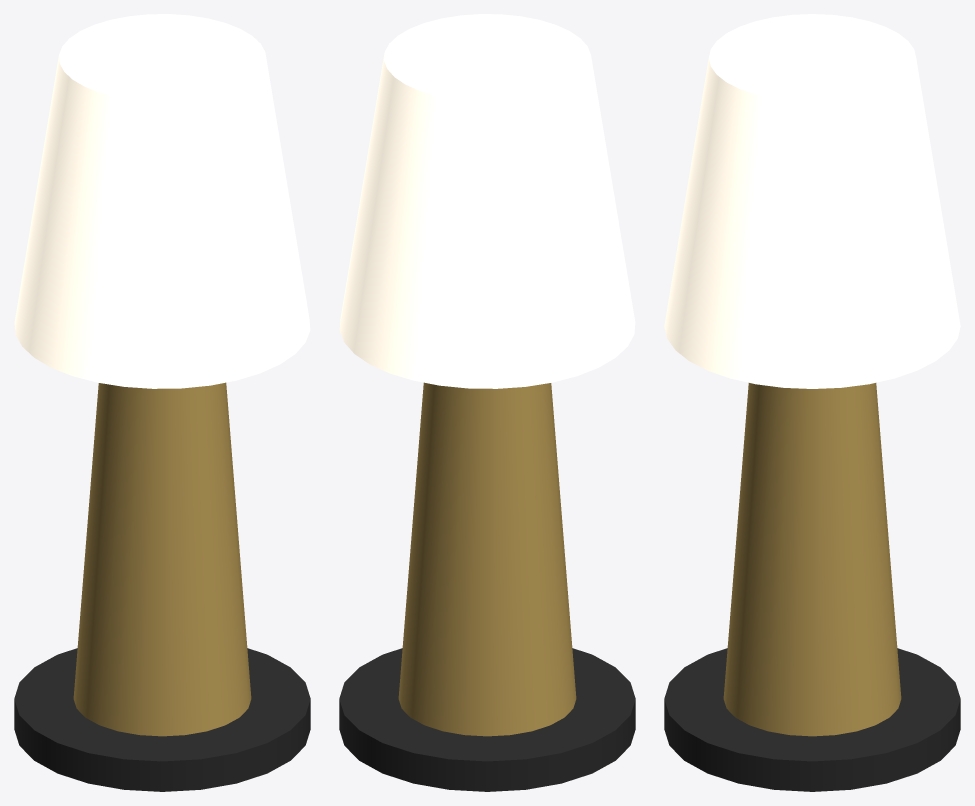
File: lampe-arstid.glb
3 renders of one model, left to right at view 1: azimuth 30°, elevation 25°; view 2: azimuth 150°, elevation 25°; view 3: azimuth 270°, elevation 25°, orthographic.
Visible parts, largest first — view 1: produit; view 2: produit; view 3: produit.
Boxes of the visible parts, bbox=[...] form: produit: bbox=[14, 14, 310, 791]; produit: bbox=[339, 14, 635, 791]; produit: bbox=[664, 14, 960, 791].
Bounding box in the file's own units: 0.22 × 0.55 × 0.22.
